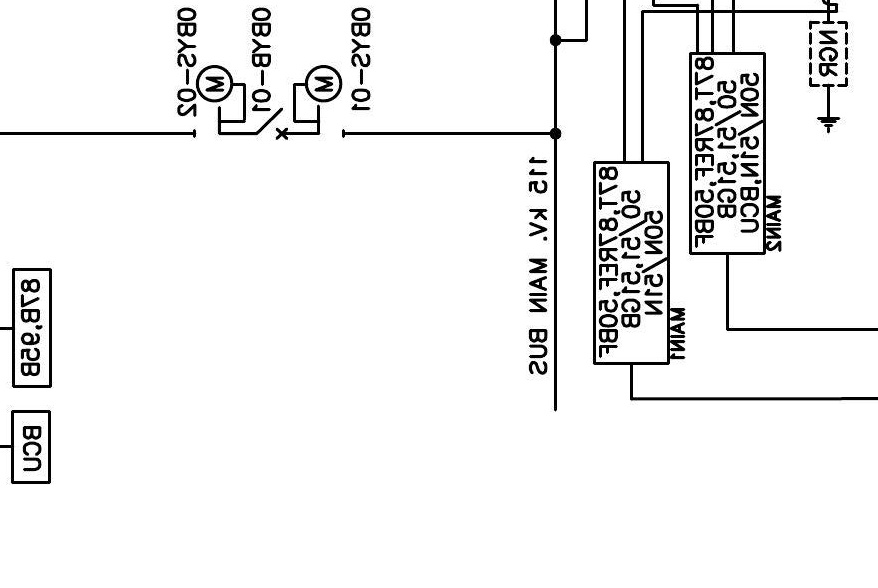115_1way_ds_w_motor: (192, 64, 246, 138), (293, 64, 346, 139)
115_breaker: (255, 107, 289, 141)
BCU: (10, 409, 52, 485)
NGR_future: (808, 21, 848, 134)
